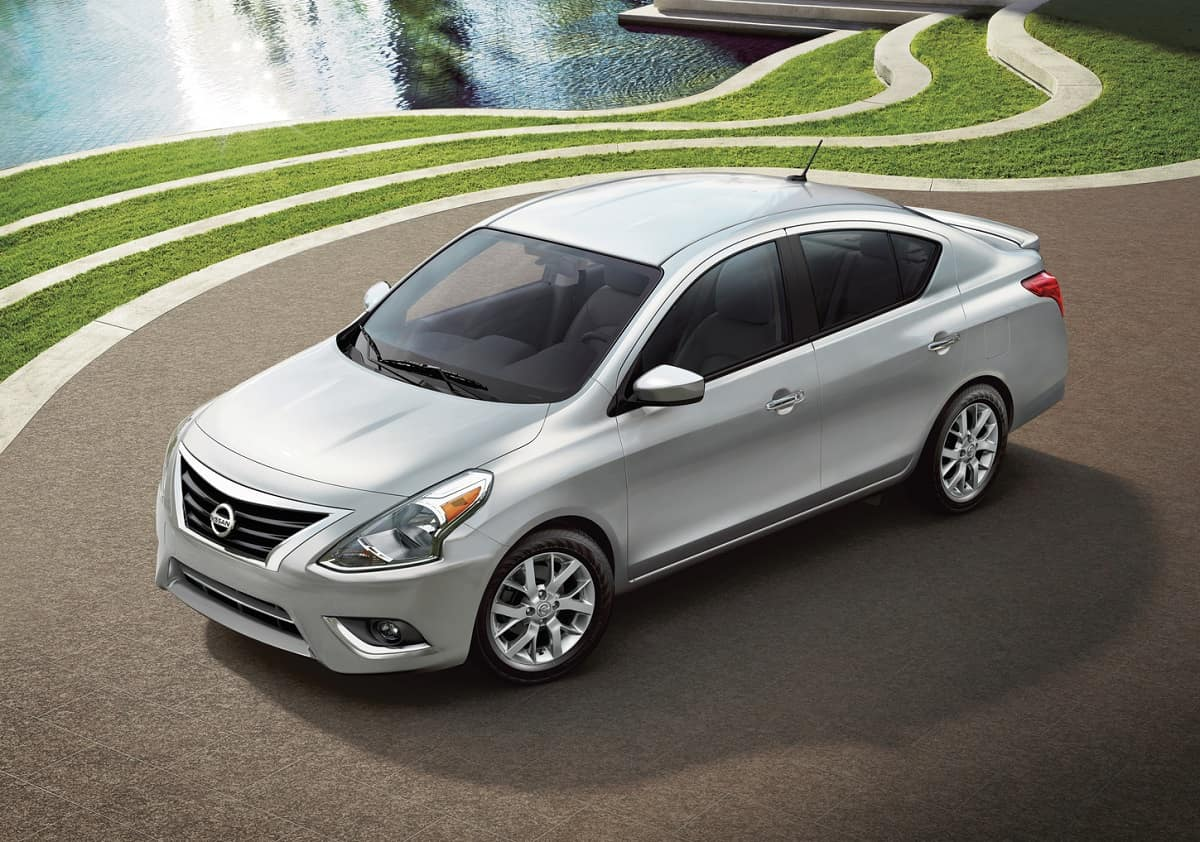car: (152, 173, 1068, 685)
